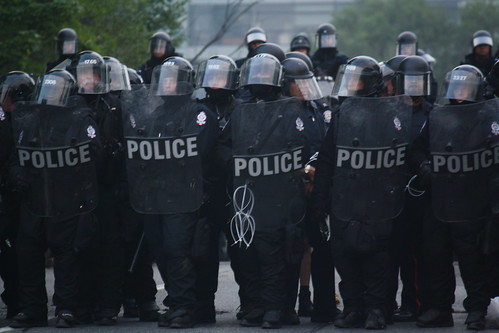policeman: (122, 60, 220, 327), (223, 57, 320, 324), (319, 61, 419, 314), (6, 76, 95, 310), (422, 62, 499, 328)
